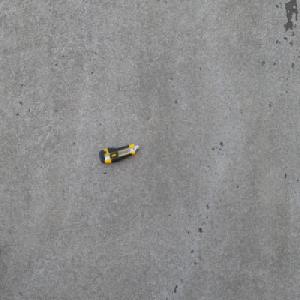Cutter: (99, 143, 139, 163)
